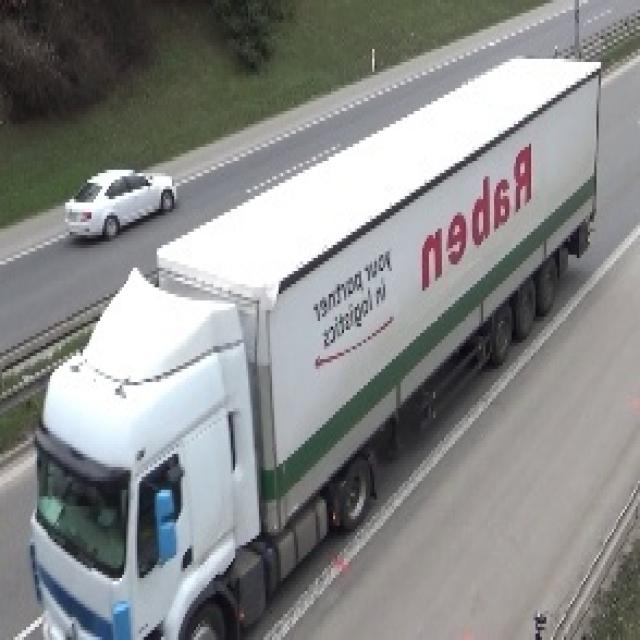SUV: (66, 170, 180, 243)
TRUCK: (32, 54, 607, 639)
